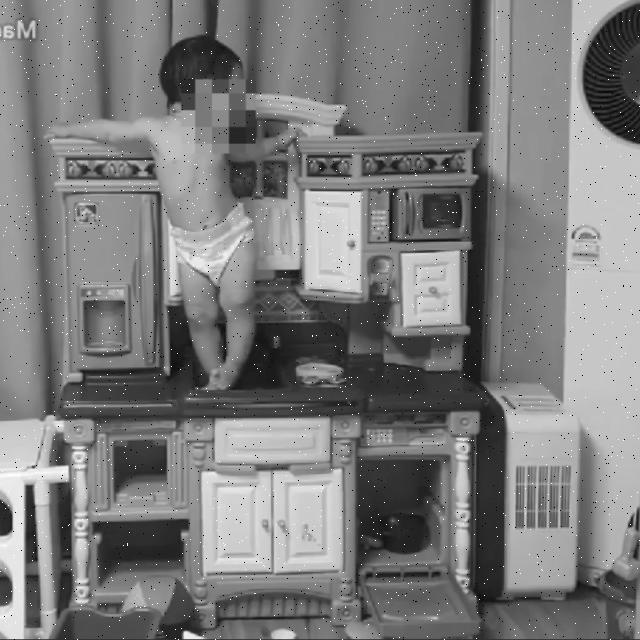child: (50, 30, 299, 386)
